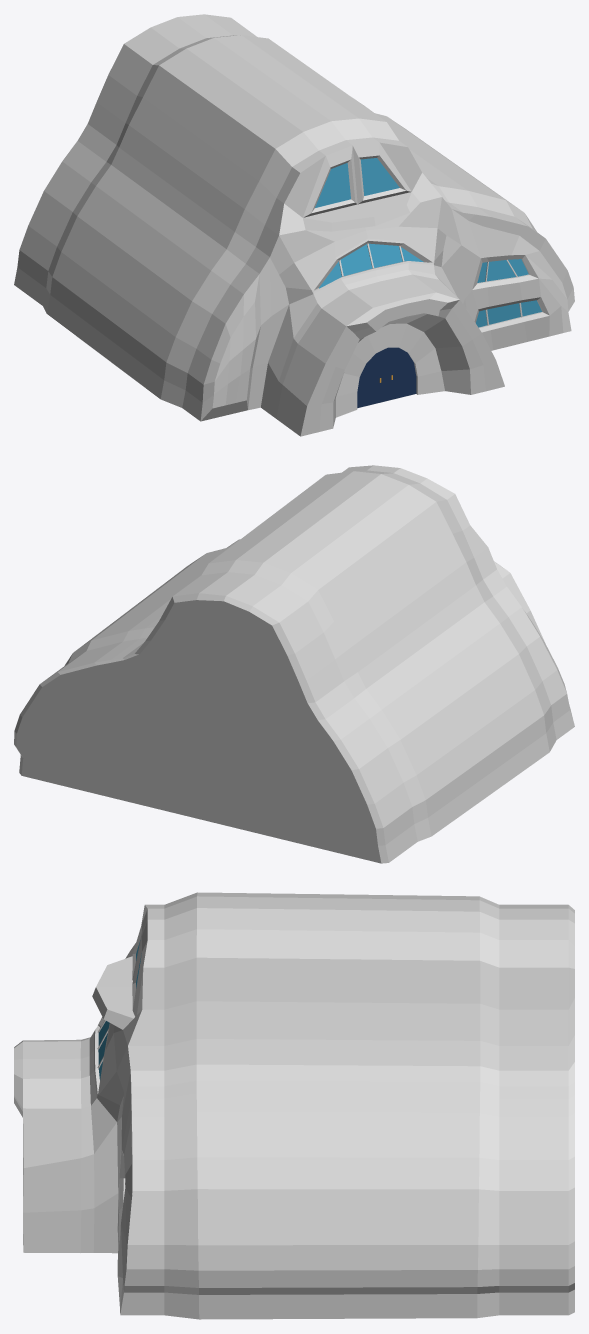
Rendered from VRroom_fin.fbx.
3 renders of one model, top to bottom at view 1: azimuth 30°, elevation 25°; view 2: azimuth 150°, elevation 25°; view 3: azimuth 270°, elevation 25°, orthographic. The views are drawn at different scales.
Visible parts, largest first — view 1: room, door.R, door.L; view 2: room; view 3: room.
Boxes of the visible parts, x1=… form: room: x1=14, y1=14, x2=574, y2=436; door.R: x1=386, y1=347, x2=416, y2=400; door.L: x1=357, y1=348, x2=386, y2=407; room: x1=14, y1=465, x2=574, y2=863; room: x1=14, y1=892, x2=574, y2=1319.
Size of the model in its own units: 30710 by 17889 by 31780.
